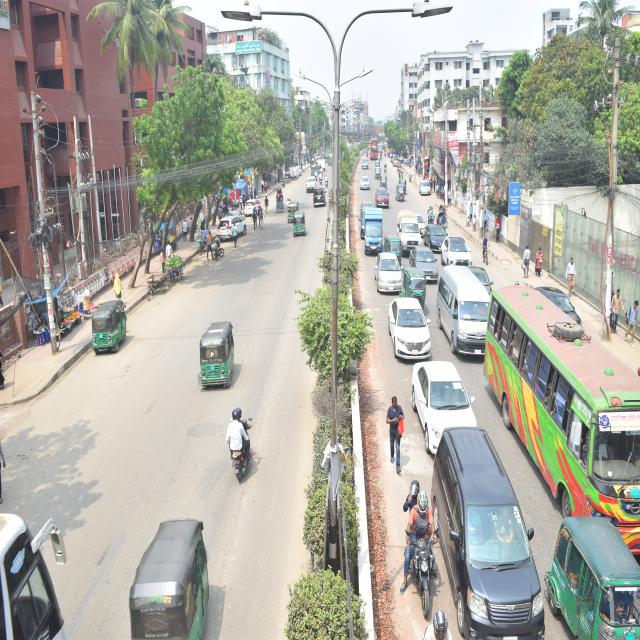bus: (488, 272, 640, 547), (0, 464, 106, 640), (366, 136, 379, 166)
car: (408, 358, 492, 457), (520, 263, 590, 354), (388, 289, 438, 360), (372, 242, 414, 296), (211, 194, 248, 254), (237, 178, 270, 243), (439, 230, 494, 269), (411, 243, 445, 285), (414, 166, 444, 209), (423, 215, 449, 248), (312, 184, 336, 214), (373, 179, 392, 210), (355, 173, 372, 204), (360, 152, 372, 174), (314, 152, 324, 178), (302, 168, 314, 186)
microbus: (436, 418, 554, 640), (437, 258, 495, 366)
motorbike: (394, 463, 473, 638), (208, 399, 257, 499), (195, 221, 226, 272), (426, 198, 437, 228), (382, 161, 392, 180), (308, 168, 318, 185), (325, 174, 335, 188), (318, 170, 324, 188)
pickup-van: (394, 205, 428, 262), (363, 209, 389, 266), (288, 157, 306, 192)
